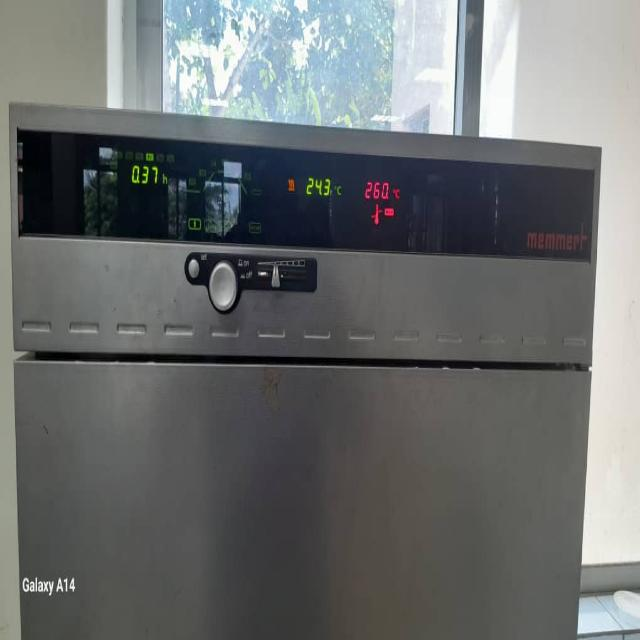Incubator: (5, 107, 604, 640)
